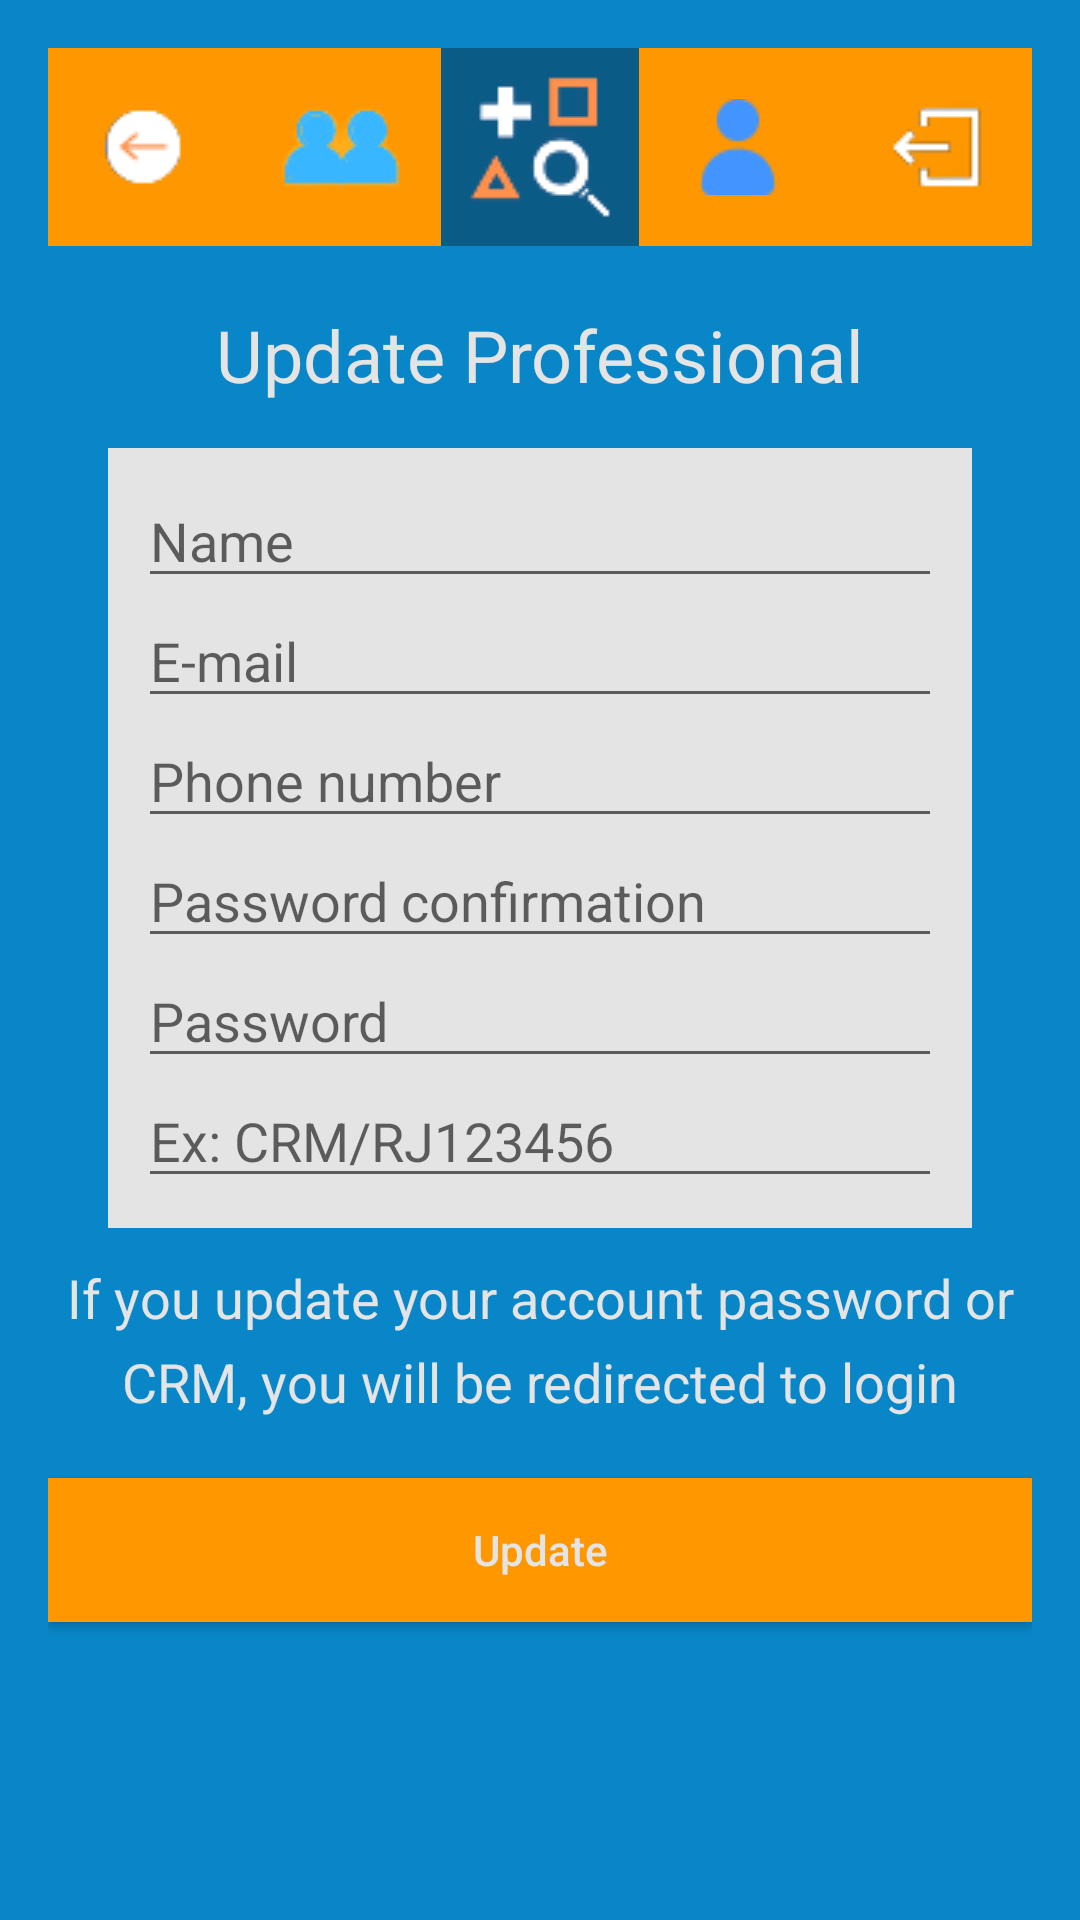

Icon click points for this 1080 × 1920 phone screenshot, format (x=x, y=y):
button profile description: (x=738, y=147)
profiles button: (x=342, y=147)
